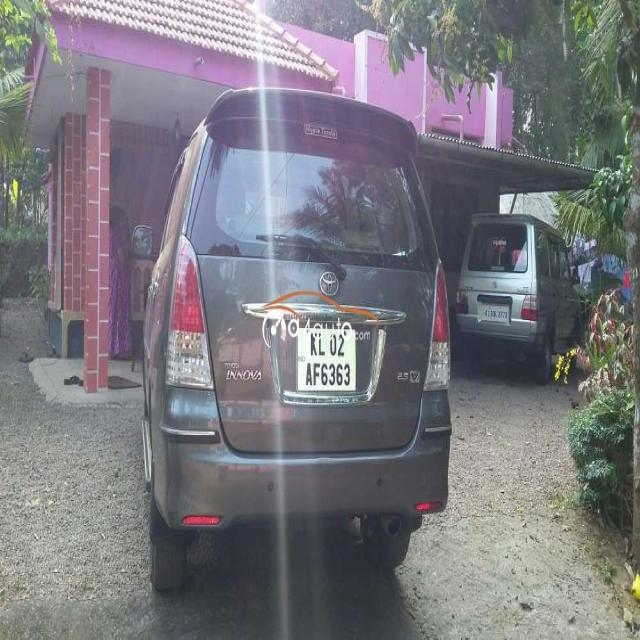number_plate: (296, 324, 358, 390)
